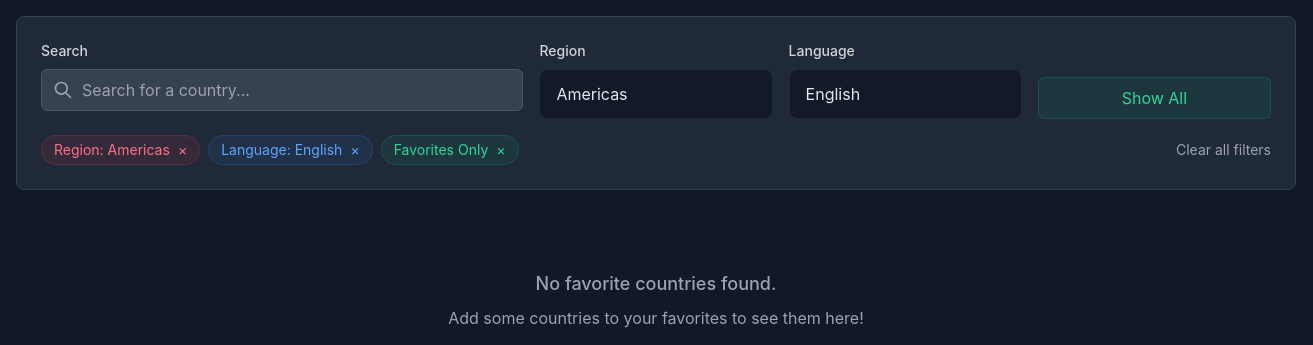
Scenario: Home › clears all filters when clear button is clicked
Type "United" into the field with placeholder "Search for a country...". click: (282, 90)
box: [41,69,523,111]
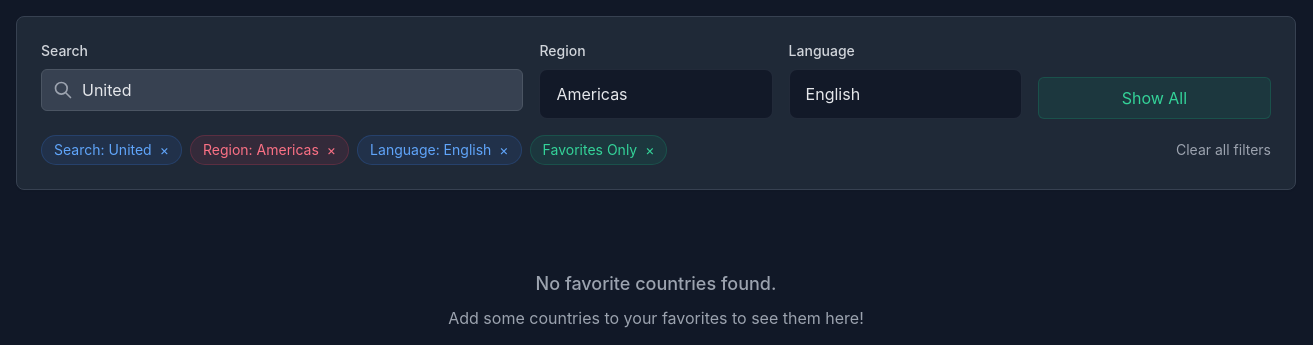
Select "Americas" in the dropdown labelled "Region". click: (656, 94)
box: [539,69,773,119]
Select "English" in the dropdown labelled "Language". click: (905, 94)
box: [789,69,1022,119]
Click the button "Clear all filters". click: click(1224, 150)
box: [1176,140,1271,160]
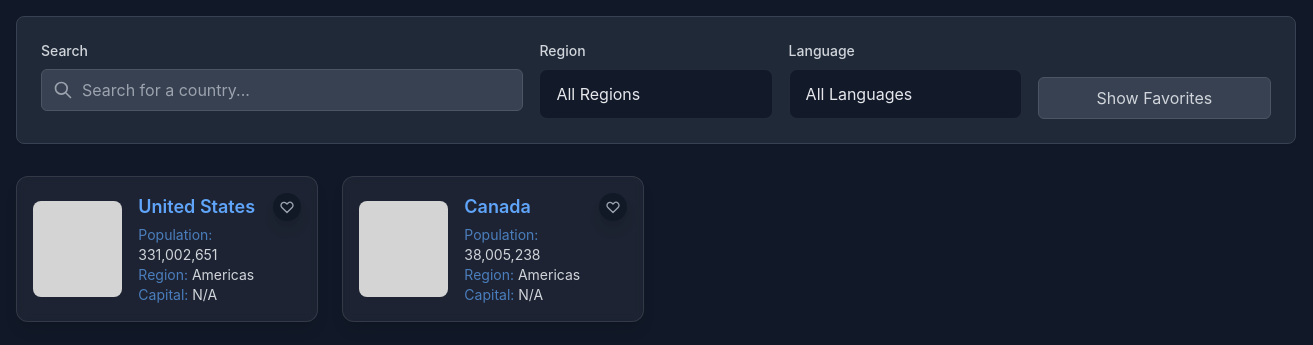
Check: the heading "United States" is shown, box [138,193,257,221]
Check: the heading "Canada" is shown, box [464,196,531,217]
